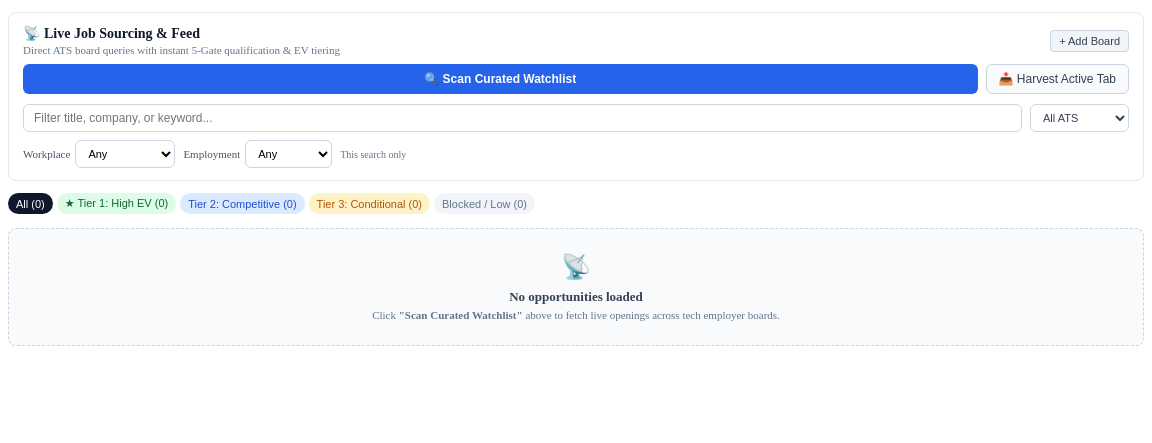
Test case: SourcedOpportunitiesFeed › harvests active browser tab links when clicking Harvest Active Tab
This screenshot has width=1152, height=443.
Click the button "📥 Harvest Active Tab". click: (1057, 79)
box: [986, 64, 1129, 94]
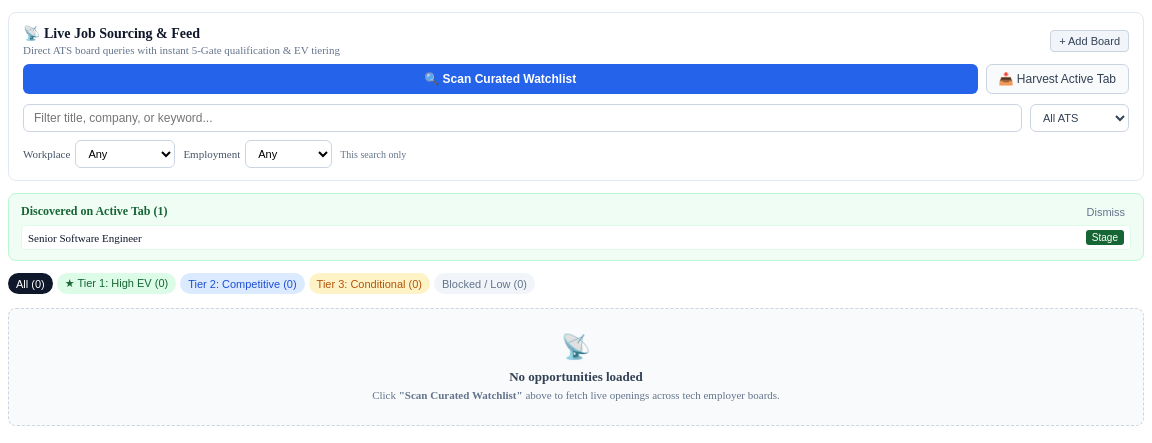
expect the text "Discovered on Active Tab (1)" is shown: met, box [21, 204, 168, 219]
expect the text "Senior Software Engineer" is shown: met, box [28, 232, 142, 244]
